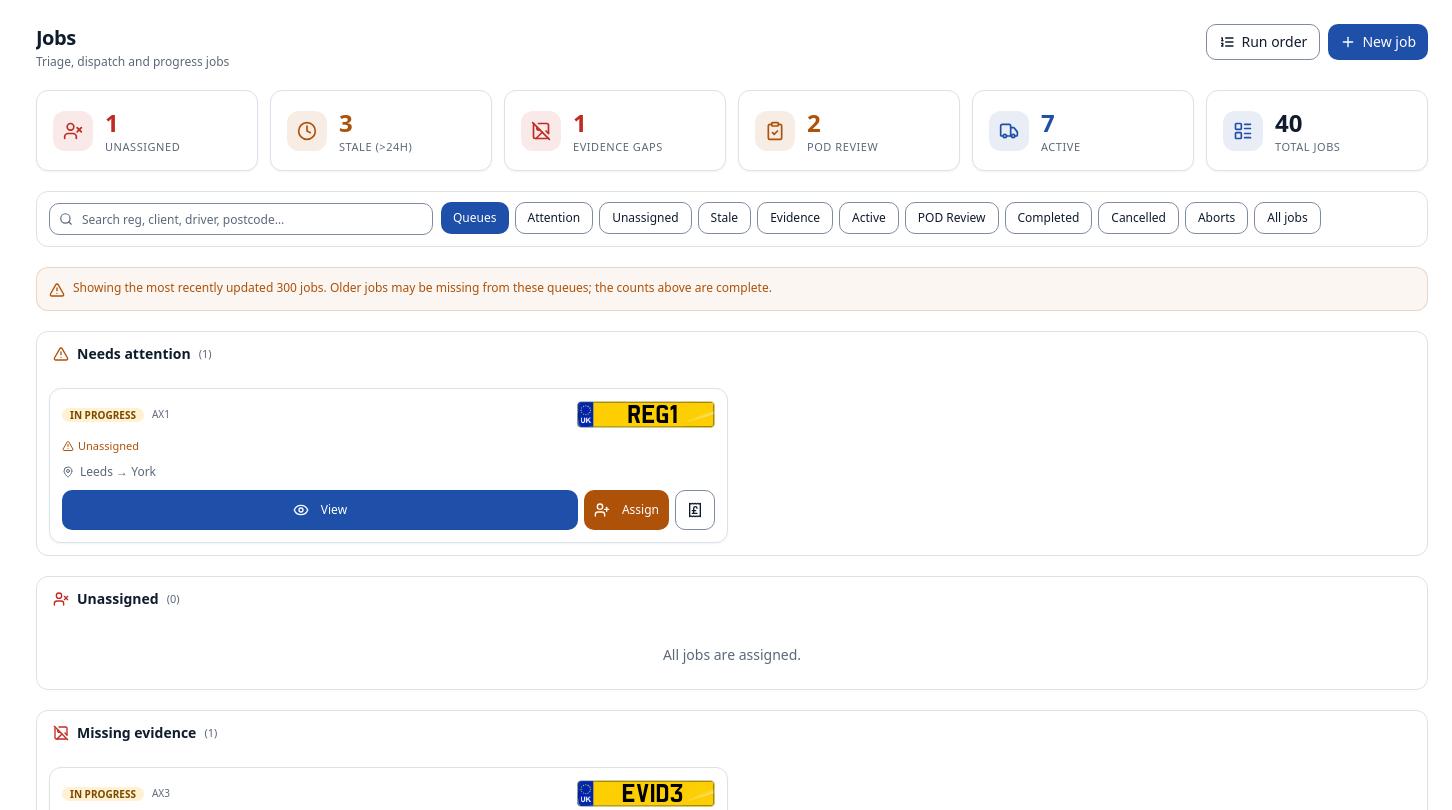
it: Jobs screen › KPI tiles switch the view (and the URL)
Click the button with aria-label "evidence gaps:": x=615, y=131 [504,90,726,171]
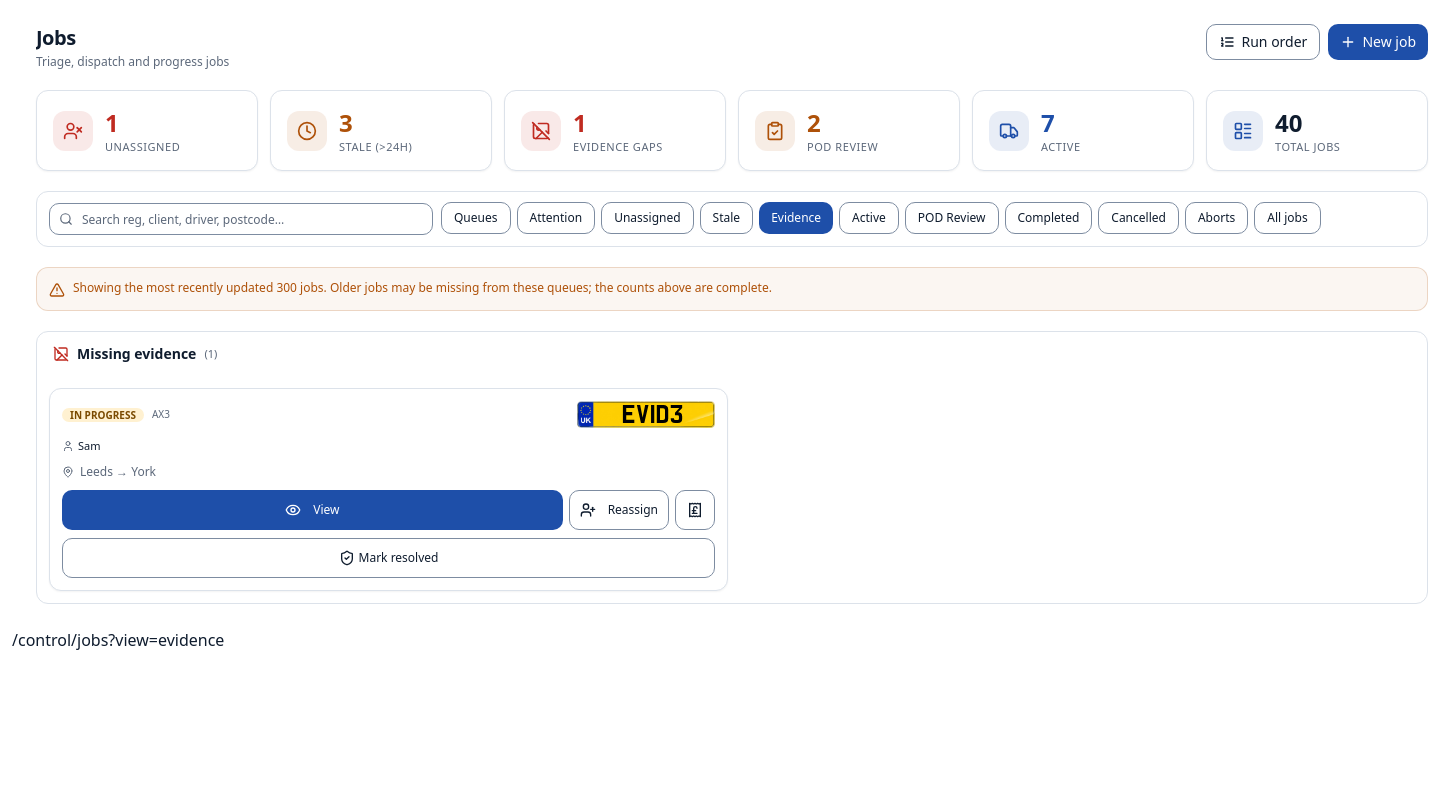
Now the text with test id "loc" reads "/control/jobs?view=evidence", box [12,629,224,651]
Click the button with aria-label "stale (>24h):": x=381, y=131 [270,90,492,171]
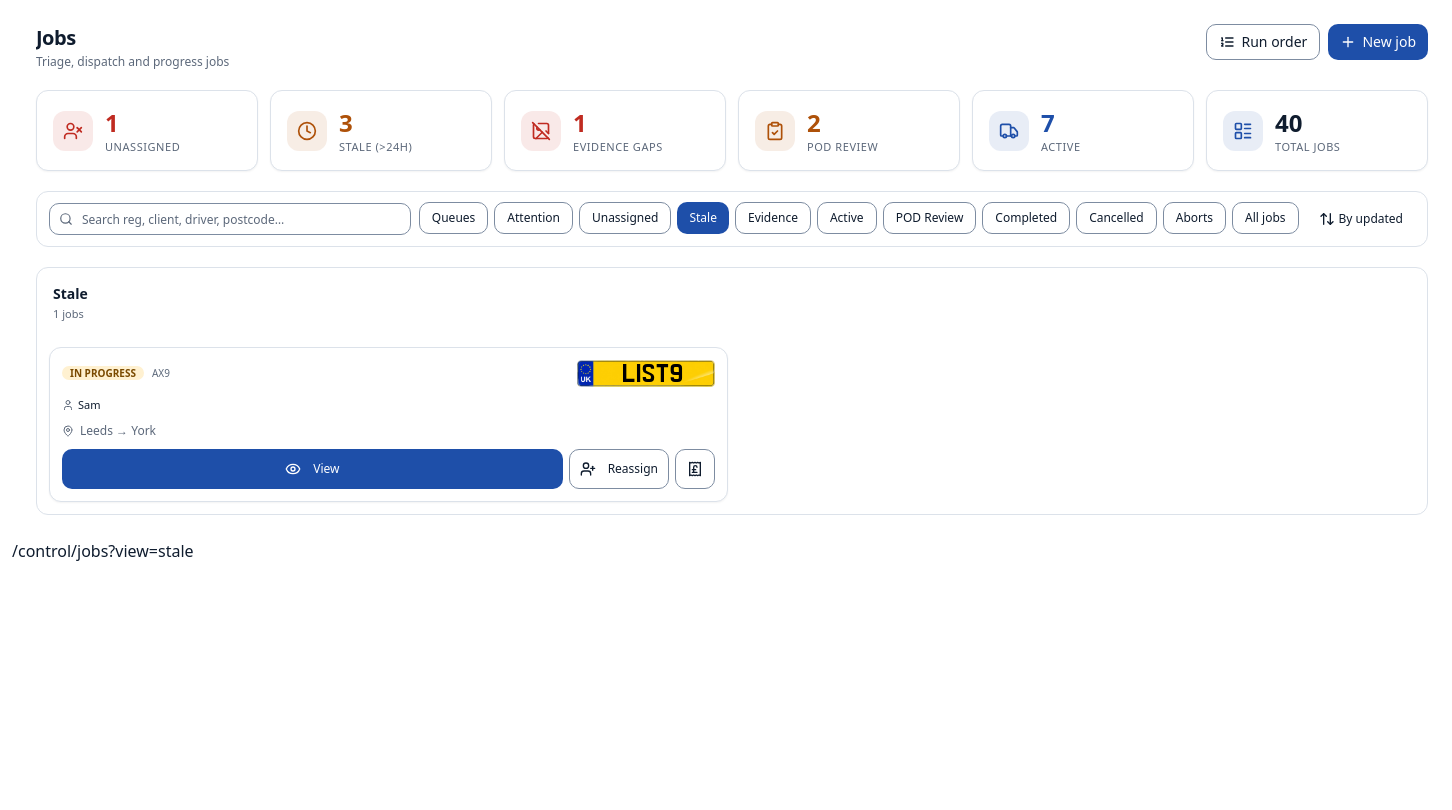
Now the text with test id "loc" reads "/control/jobs?view=stale", box [12,540,194,562]
